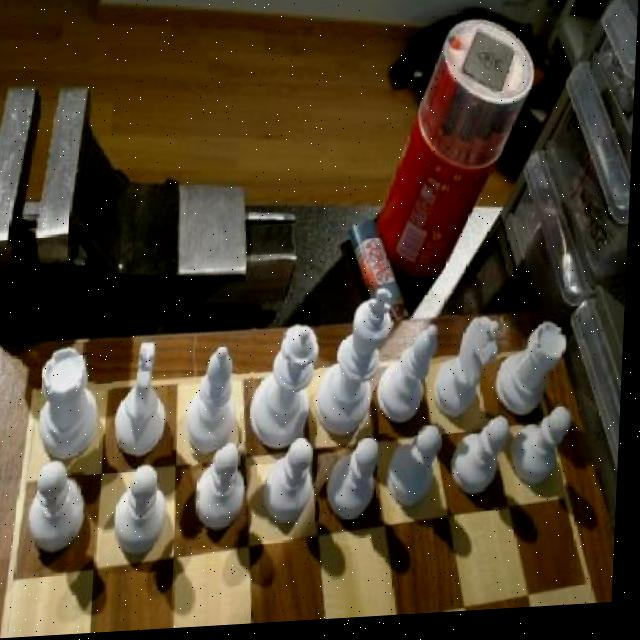black-rook: (377, 325, 443, 433), (183, 345, 243, 455)
white-bishop: (317, 290, 397, 441)
white-king: (436, 317, 504, 427), (113, 342, 173, 465)
white-knight: (28, 458, 91, 557), (510, 411, 575, 499), (117, 462, 176, 557), (193, 447, 253, 537), (451, 423, 510, 503), (327, 443, 383, 526), (390, 431, 446, 513), (267, 440, 321, 521)
white-pawn: (250, 328, 323, 456)
white-queen: (36, 344, 102, 464), (495, 330, 571, 428)
